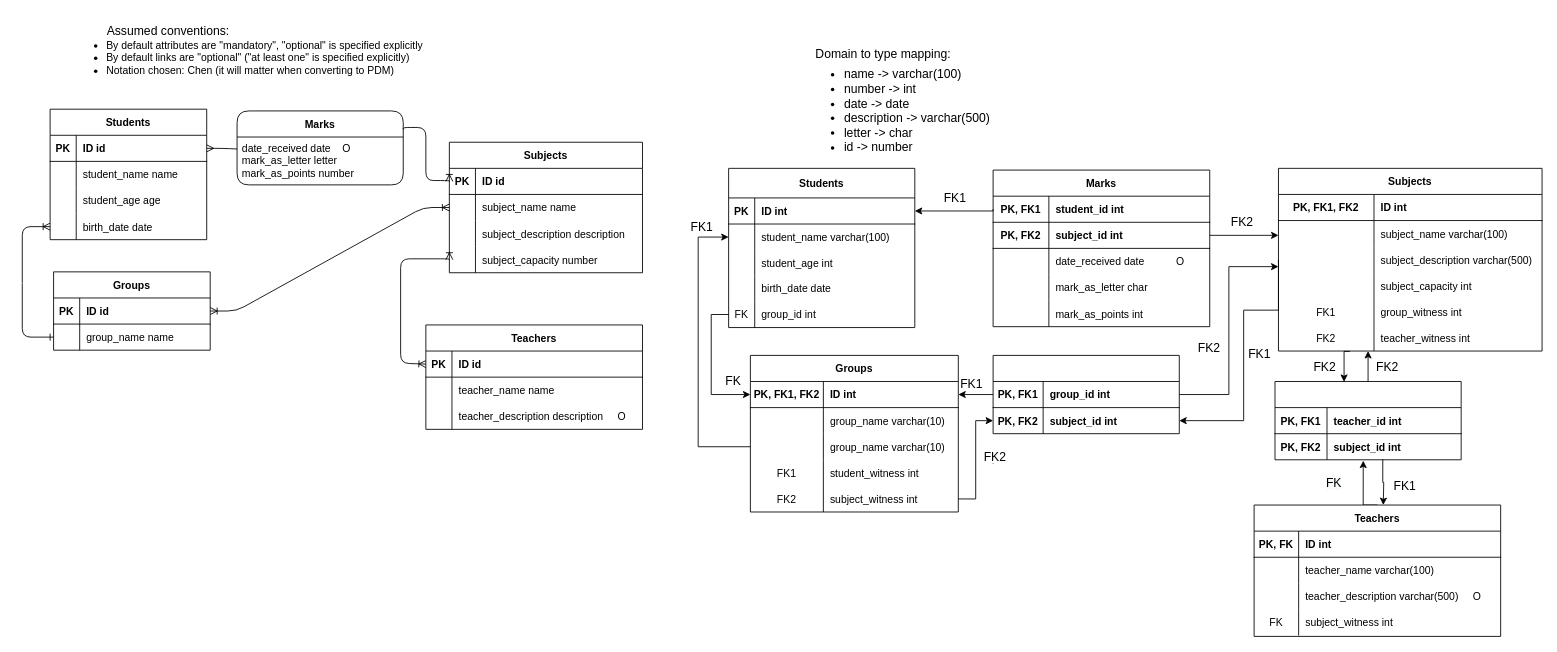
This 1557x652 diagram has some shape labels left out. Each missing label, with the box of its shape:
GroupHasSubjects: (992, 355, 1179, 434)
TeacherTeachesSubjects: (1274, 381, 1461, 460)
